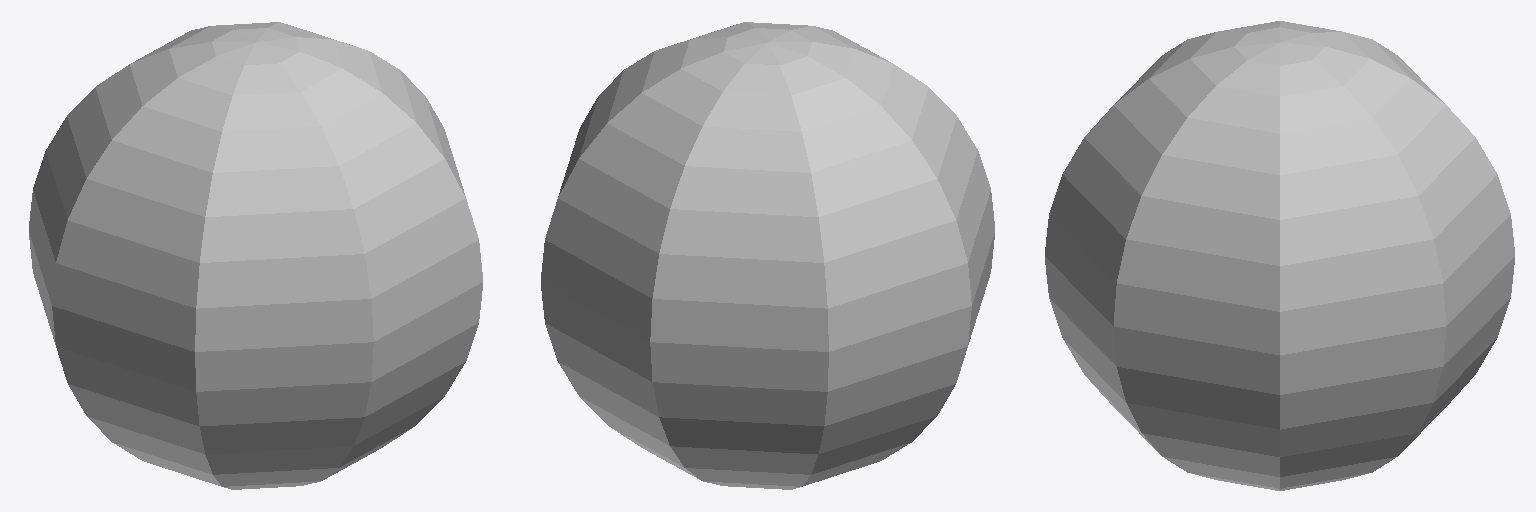
Rendered from uv_sphere_triangulated.obj.
3 renders of one model, left to right at view 1: azimuth 30°, elevation 25°; view 2: azimuth 150°, elevation 25°; view 3: azimuth 270°, elevation 25°, orthographic.
Visible parts, largest first — view 1: uv_sphere_triangulated_Sphere.004; view 2: uv_sphere_triangulated_Sphere.004; view 3: uv_sphere_triangulated_Sphere.004.
Part boxes in pixels (x1,y1,x2,y2): uv_sphere_triangulated_Sphere.004: (29, 22, 482, 489); uv_sphere_triangulated_Sphere.004: (541, 22, 994, 489); uv_sphere_triangulated_Sphere.004: (1045, 21, 1514, 490).
Bounding box in the file's own units: 2 × 2 × 2.